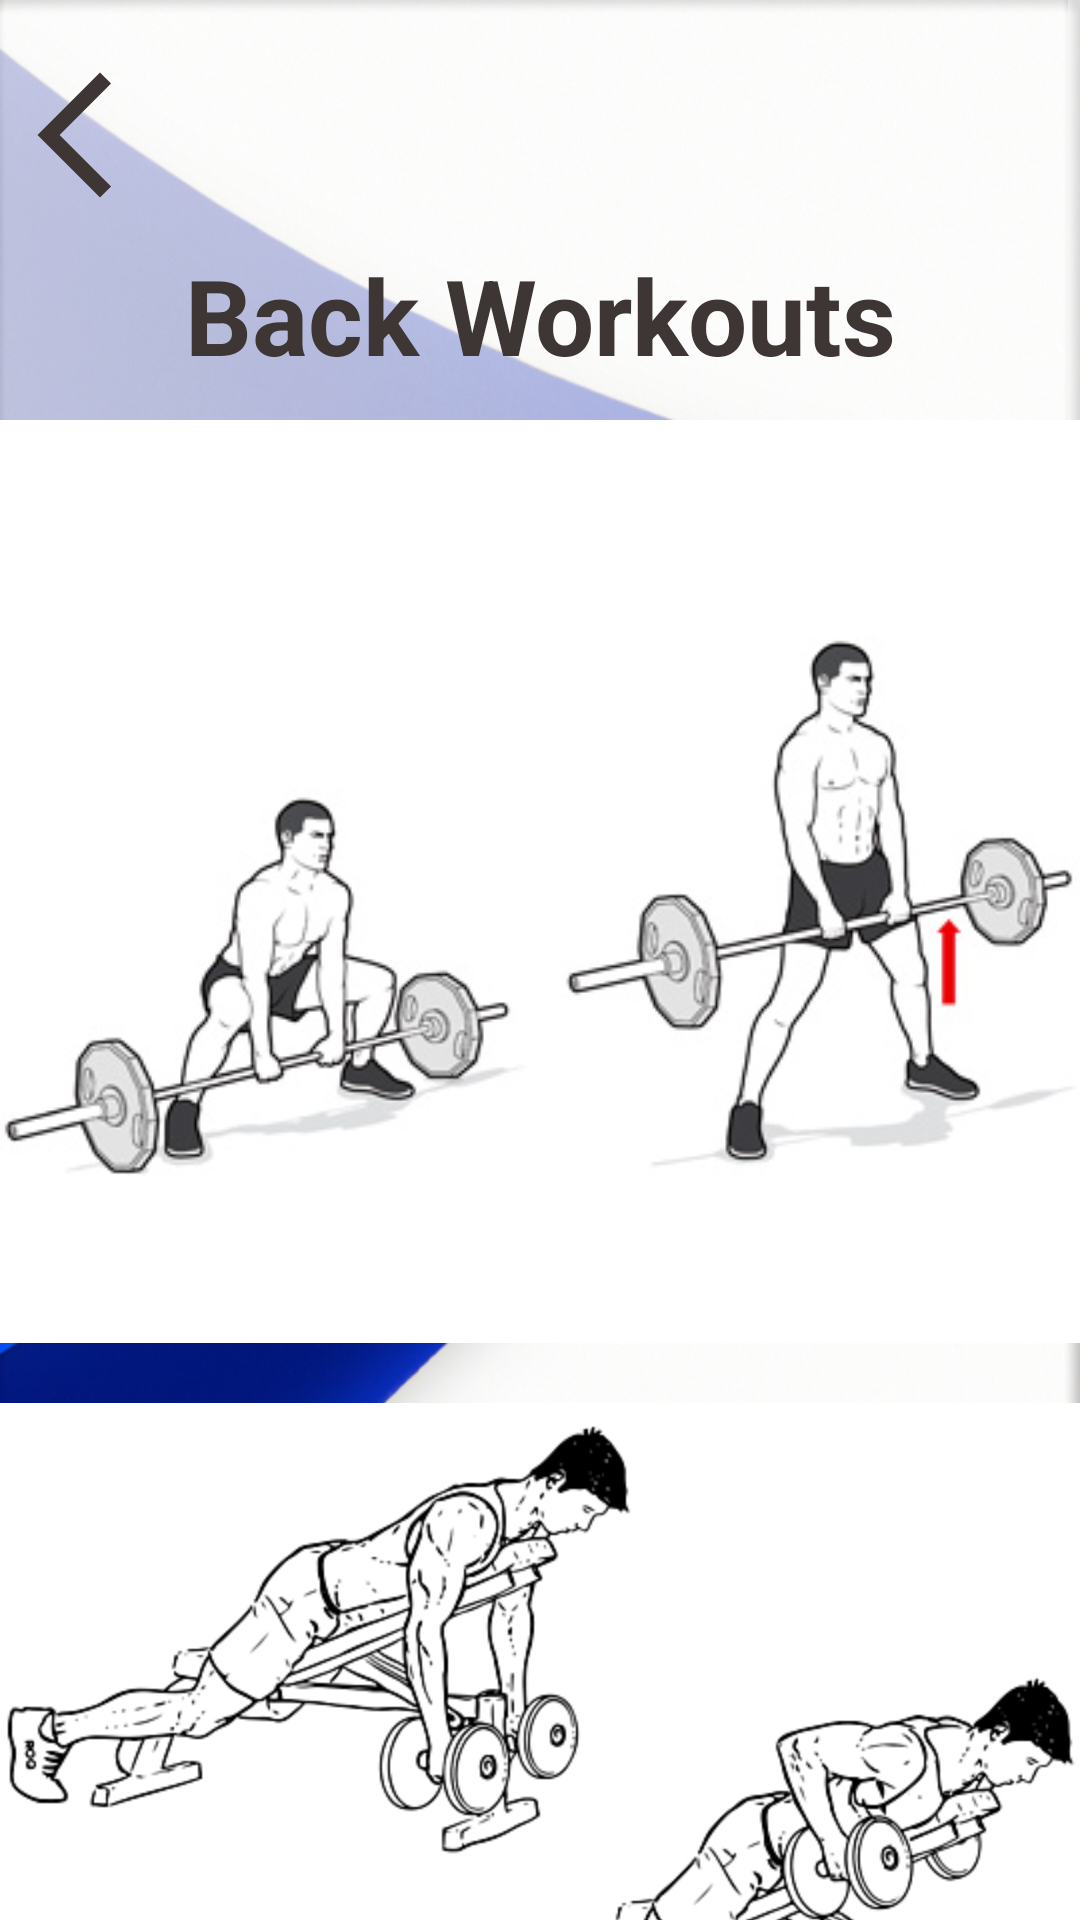

Named icons in this screenshot (1080*1920) and their centers, point (x, y):
arrow back: point (75, 135)
